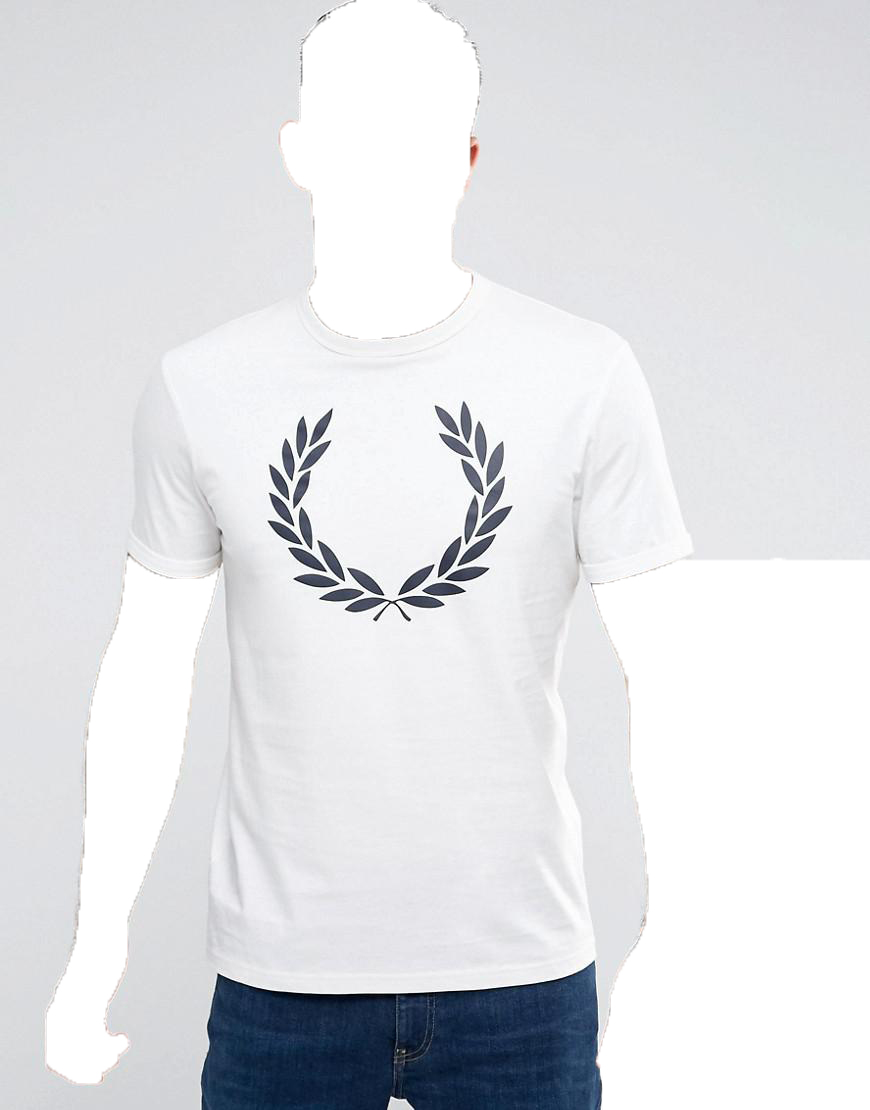teeshirt: (120, 276, 695, 1003)
